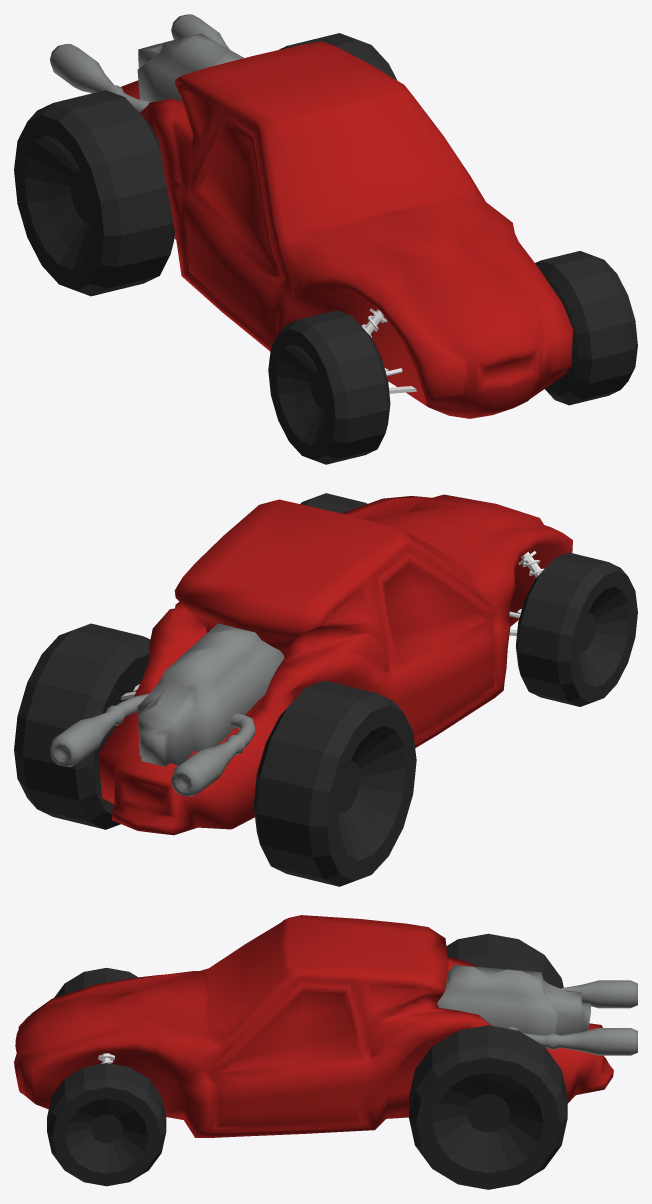
The model's file is Car.fbx.
The picture shows the model from 3 angles, top to bottom: view 1: azimuth 30°, elevation 25°; view 2: azimuth 150°, elevation 25°; view 3: azimuth 270°, elevation 25°; orthographic projection. The views are drawn at different scales.
Parts seen in each view (by area): view 1: Car-body, Wheel-rear-right, Wheel-front-right, Wheel-front-left, Wheel-rear-left; view 2: Car-body, Wheel-rear-right, Wheel-rear-left, Wheel-front-right, Wheel-front-left; view 3: Car-body, Wheel-rear-left, Wheel-front-left, Wheel-rear-right, Wheel-front-right.
Part boxes in pixels (x1,y1,x2,y2): Car-body: [49, 14, 572, 418]; Wheel-rear-right: [14, 90, 174, 296]; Wheel-front-right: [268, 310, 390, 464]; Wheel-front-left: [535, 251, 637, 405]; Wheel-rear-left: [279, 33, 397, 80]; Car-body: [49, 494, 572, 835]; Wheel-rear-right: [253, 680, 416, 886]; Wheel-rear-left: [14, 623, 150, 829]; Wheel-front-right: [516, 552, 637, 706]; Wheel-front-left: [300, 493, 367, 513]; Car-body: [14, 915, 637, 1137]; Wheel-rear-left: [409, 1025, 567, 1189]; Wheel-front-left: [47, 1063, 166, 1186]; Wheel-rear-right: [446, 933, 563, 988]; Wheel-front-right: [54, 967, 137, 997].
Size of the model in its own units: 354 by 260 by 764.
